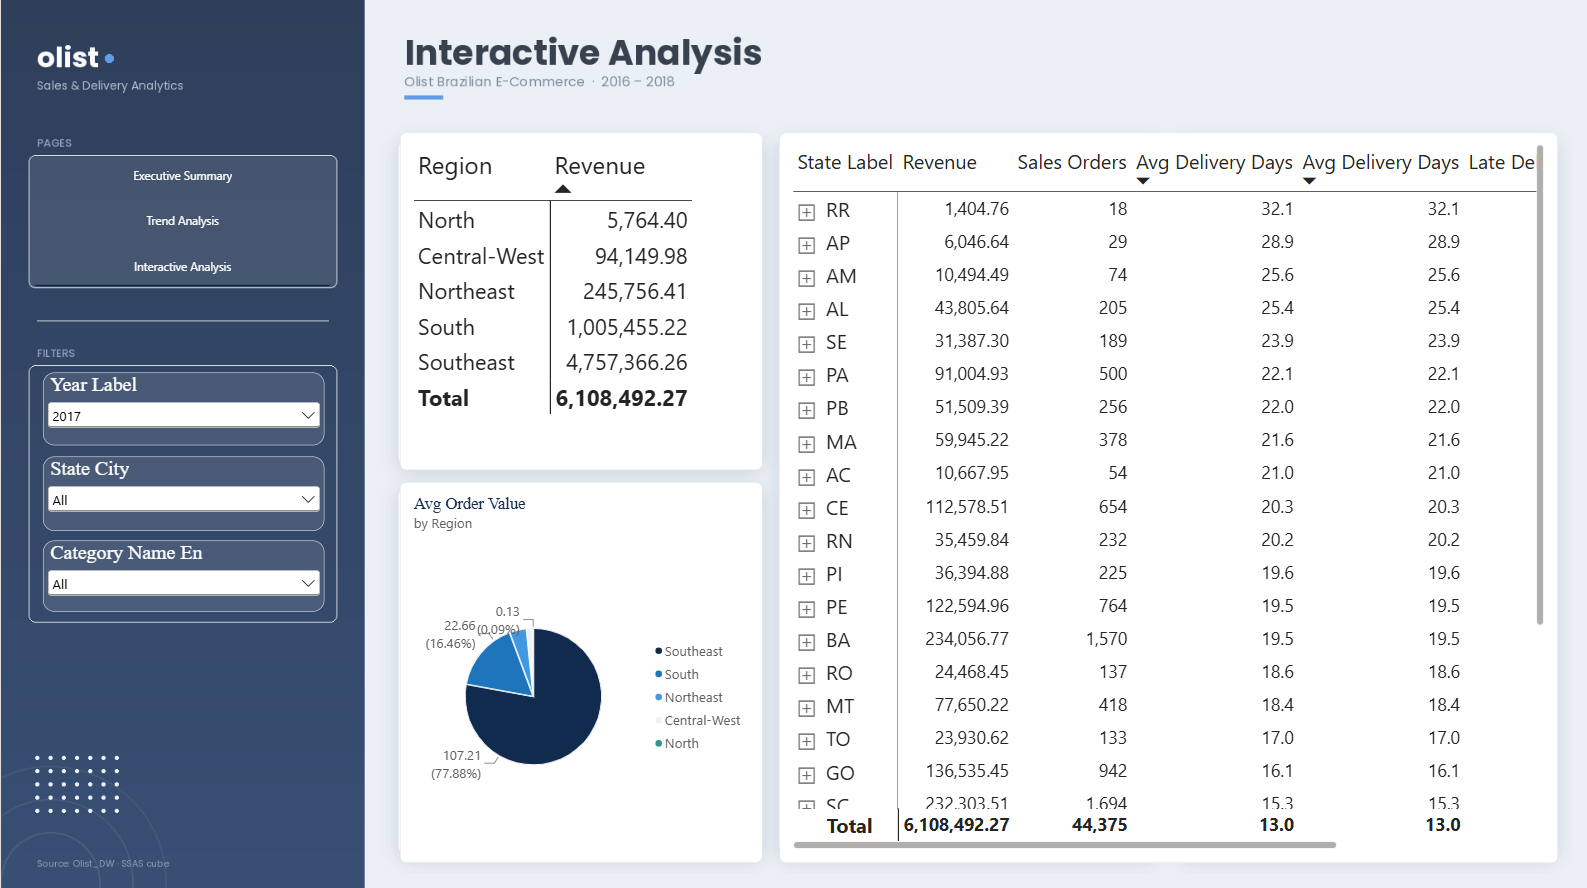

Layout of this report page (visuals, bound fields, positions):
{"tool":"powerbi","page":{"name":"Interactive Analysis","canvas":[1920,1080],"ordinal":2},"visuals":[{"type":"pageNavigator","box":[35,190,370.8,158.3],"z":0},{"type":"slicer","fields":{"Values":["Customer Location.Hierarchy.State City"]},"box":[50,552,340,90],"z":1000},{"type":"slicer","fields":{"Values":["Product.Hierarchy.Category Name En"]},"box":[50,654,340,86],"z":2000},{"type":"slicer","fields":{"Values":["Date.Hierarchy.Year Label"]},"box":[50,452,340,88],"z":3000},{"type":"pivotTable","fields":{"Rows":["Seller Location.Region"],"Values":["Fact Sales.Revenue"]},"box":[482,162,438,408],"z":4000},{"type":"pivotTable","fields":{"Rows":["Customer Location.Hierarchy.State Label","Customer Location.Hierarchy.State City","Customer Location.Hierarchy.Location Key"],"Values":["Fact Sales.Revenue","Fact Order Fulfilment.Sales Orders","Measures.Avg Delivery Days","Measures.Avg Delivery Days","Fact Order Fulfilment.Late Delivery %","Measures.Avg Review Score"]},"box":[940.7,161.3,940.7,882.7],"z":7000},{"type":"pieChart","fields":{"Category":["Seller Location.Region"],"Y":["Fact Order Fulfilment.Avg Order Value"]},"box":[482,584,438,460],"z":7001}]}

Visuals, with their boxes on the page's 1920x1080 design canvas (x1, y1, x2, y2). These are canvas units, not pixel positions in the 1587x888 screenshot, which may show the page scaled, cropped or inside an application window:
pageNavigator: pyautogui.locateOnScreen(35, 190, 406, 348)
slicer - Customer Location.Hierarchy.State City: pyautogui.locateOnScreen(50, 552, 390, 642)
slicer - Product.Hierarchy.Category Name En: pyautogui.locateOnScreen(50, 654, 390, 740)
slicer - Date.Hierarchy.Year Label: pyautogui.locateOnScreen(50, 452, 390, 540)
pivotTable - Seller Location.Region x Fact Sales.Revenue: pyautogui.locateOnScreen(482, 162, 920, 570)
pivotTable - Customer Location.Hierarchy.State Label x Customer Location.Hierarchy.State City: pyautogui.locateOnScreen(941, 161, 1881, 1044)
pieChart - Seller Location.Region x Fact Order Fulfilment.Avg Order Value: pyautogui.locateOnScreen(482, 584, 920, 1044)
